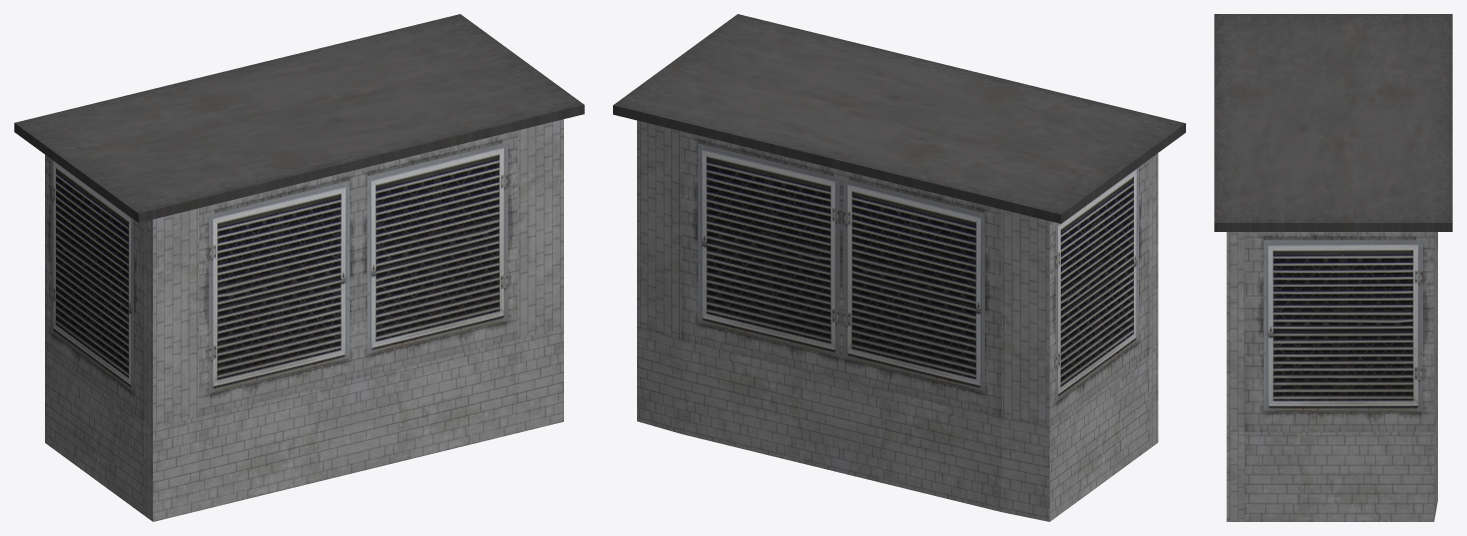
File: Del_RoofelEment_v07.FBX
The picture shows the model from 3 angles, left to right: view 1: azimuth 30°, elevation 25°; view 2: azimuth 150°, elevation 25°; view 3: azimuth 270°, elevation 25°; orthographic projection. The views are drawn at different scales.
Visible parts, largest first — view 1: Del_RoofelEment_v07; view 2: Del_RoofelEment_v07; view 3: Del_RoofelEment_v07.
Boxes of the visible parts, x1,y1,x2,y2 form: Del_RoofelEment_v07: (14,14,584,521); Del_RoofelEment_v07: (613,14,1185,521); Del_RoofelEment_v07: (1214,14,1452,521).
Size of the model in its own units: 4.3 by 2.93 by 2.07.
1 material, 1 textured.
